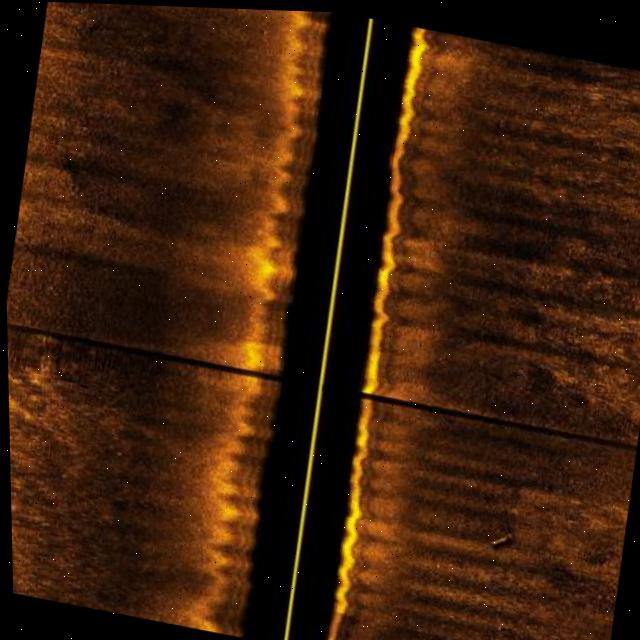other: (480, 522, 517, 552)
